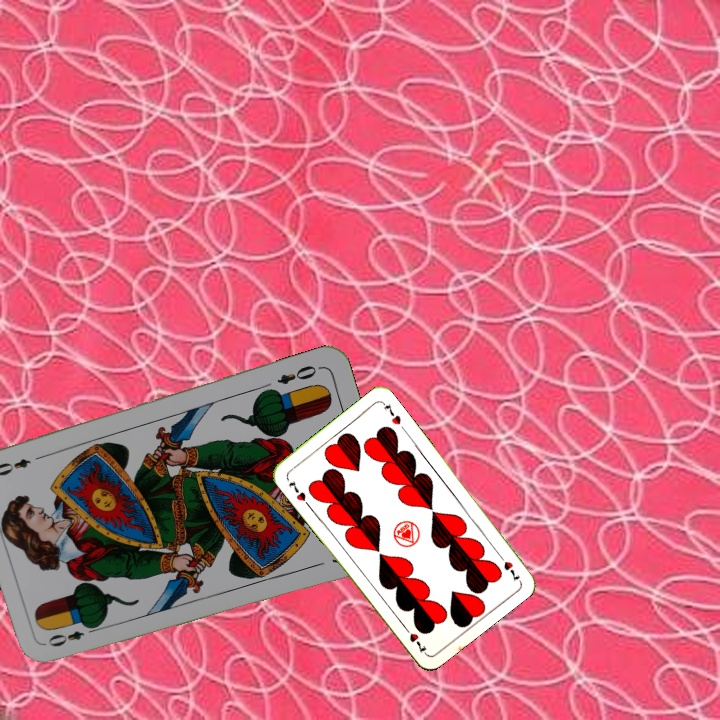EO: (44, 621, 101, 650), (273, 361, 324, 387)
H7: (494, 549, 522, 584), (285, 477, 308, 504)
